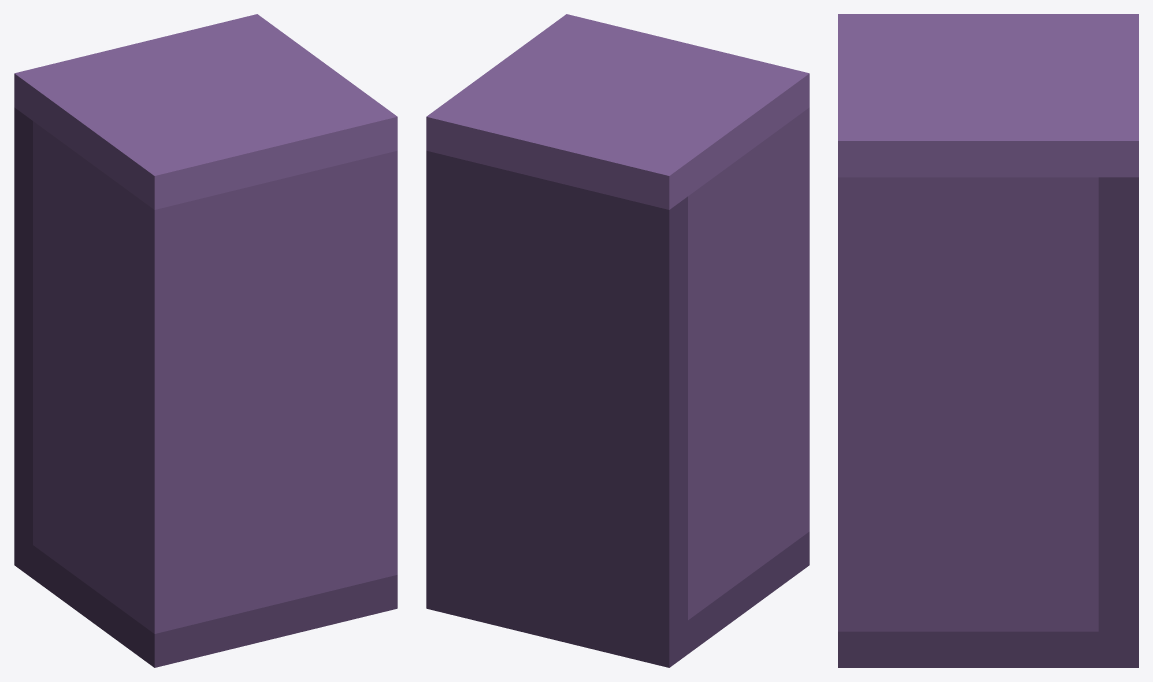
The model's file is estanteria_componentes_arcanos_01.glb.
3 views of the same model, side by side, from view 1: azimuth 30°, elevation 25°; view 2: azimuth 150°, elevation 25°; view 3: azimuth 270°, elevation 25° (orthographic). The views are drawn at different scales.
Parts seen in each view (by area): view 1: estanteria_componentes_arcanos; view 2: estanteria_componentes_arcanos; view 3: estanteria_componentes_arcanos.
Boxes of the visible parts, x1,y1,x2,y2 form: estanteria_componentes_arcanos: (14, 14, 397, 667); estanteria_componentes_arcanos: (426, 14, 809, 667); estanteria_componentes_arcanos: (838, 14, 1138, 667).
Bounding box in the file's own units: 1 × 1.93 × 1.
